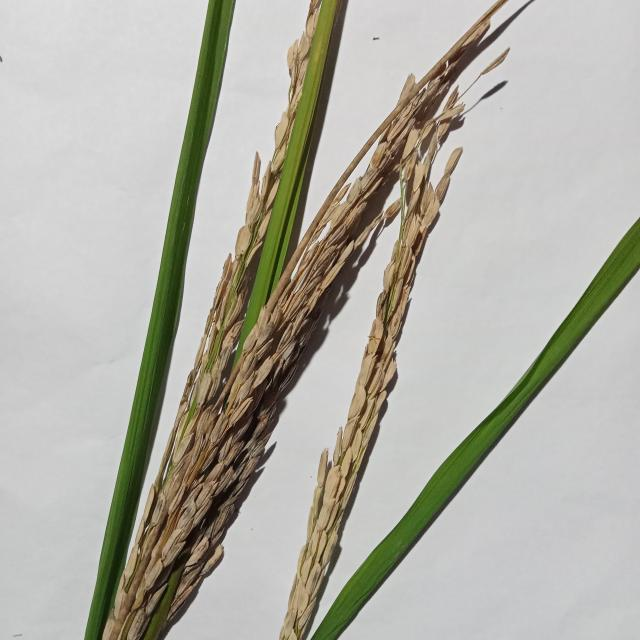Neck_Blast: (101, 0, 492, 640), (272, 129, 465, 640)
